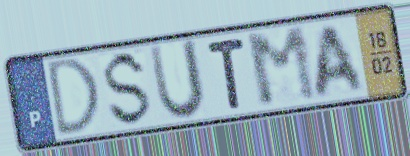A: (313, 21, 368, 102)
D: (45, 54, 103, 141)
M: (243, 24, 323, 111)
S: (102, 48, 155, 130)
T: (204, 35, 249, 112)
U: (146, 36, 208, 123)
